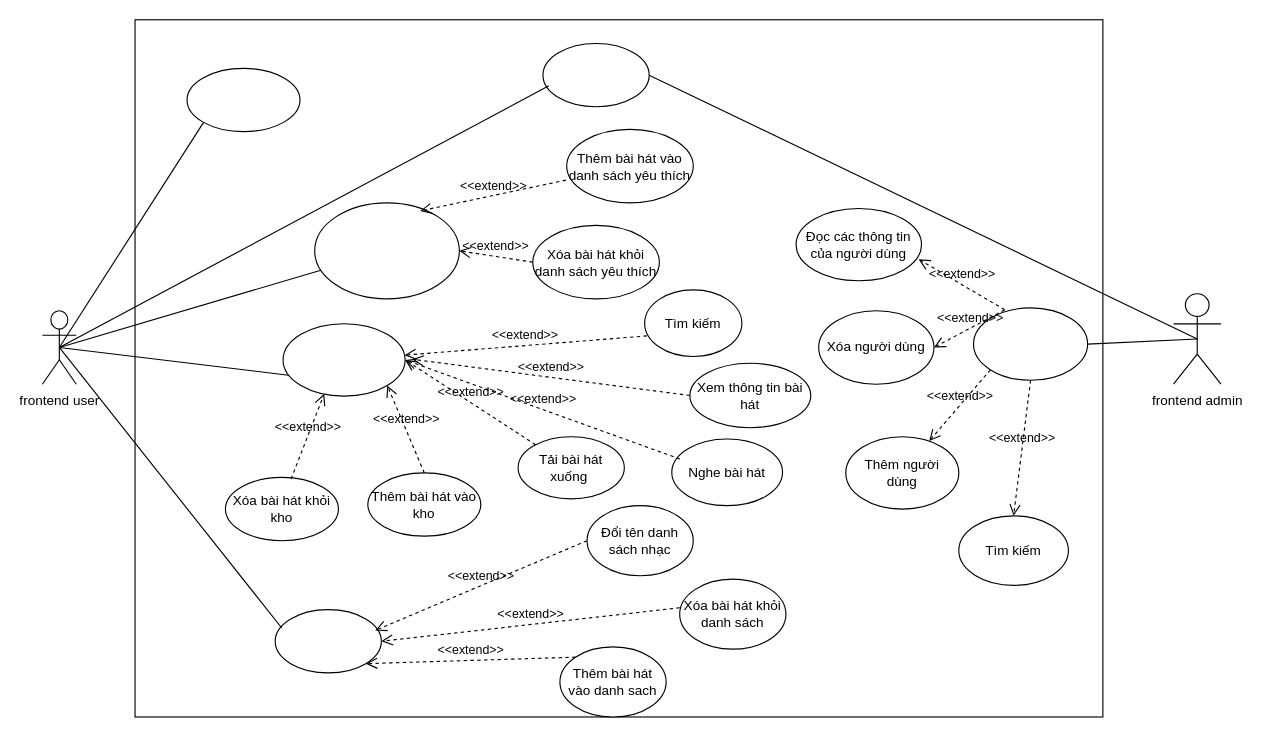
This 1262x737 diagram has some shape labels left out. The box of each missing label's shape, as (x1, y1, x2, y2) in pixels:
Lấy ra các bài hát trong danh sách yêu thích: (314, 202, 459, 299)
Lấy ra các bài hát trong kho: (282, 323, 405, 396)
Quản lý người dùng: (972, 307, 1088, 380)
Tạo danh sách nhạc: (274, 609, 381, 673)
Đăng kí: (186, 67, 300, 132)
Đăng nhập: (542, 42, 649, 107)
